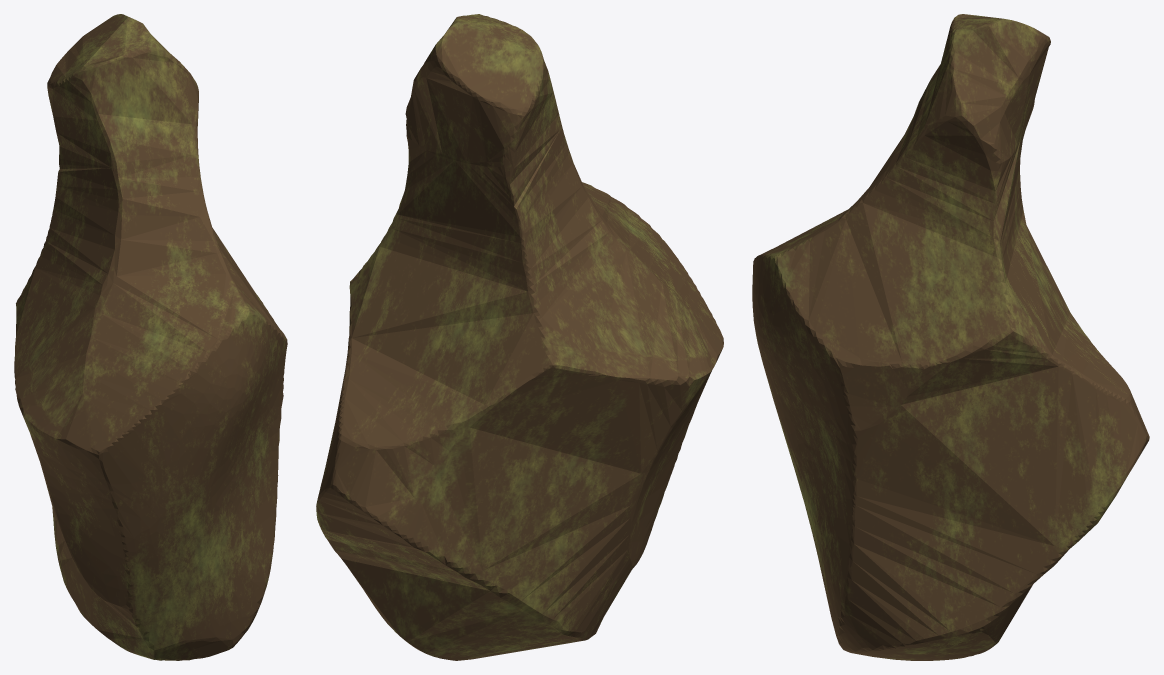
The model's file is Rock5.fbx.
3 renders of one model, left to right at view 1: azimuth 30°, elevation 25°; view 2: azimuth 150°, elevation 25°; view 3: azimuth 270°, elevation 25°, orthographic. The views are drawn at different scales.
Parts seen in each view (by area): view 1: Rock4; view 2: Rock4; view 3: Rock4.
Boxes of the visible parts, <box> form: Rock4: <box>14,14,287,660</box>; Rock4: <box>316,14,723,660</box>; Rock4: <box>752,14,1149,660</box>.
Bounding box in the file's own units: 97.88 × 218 × 124.
Materials: 1 (1 with a texture image).
